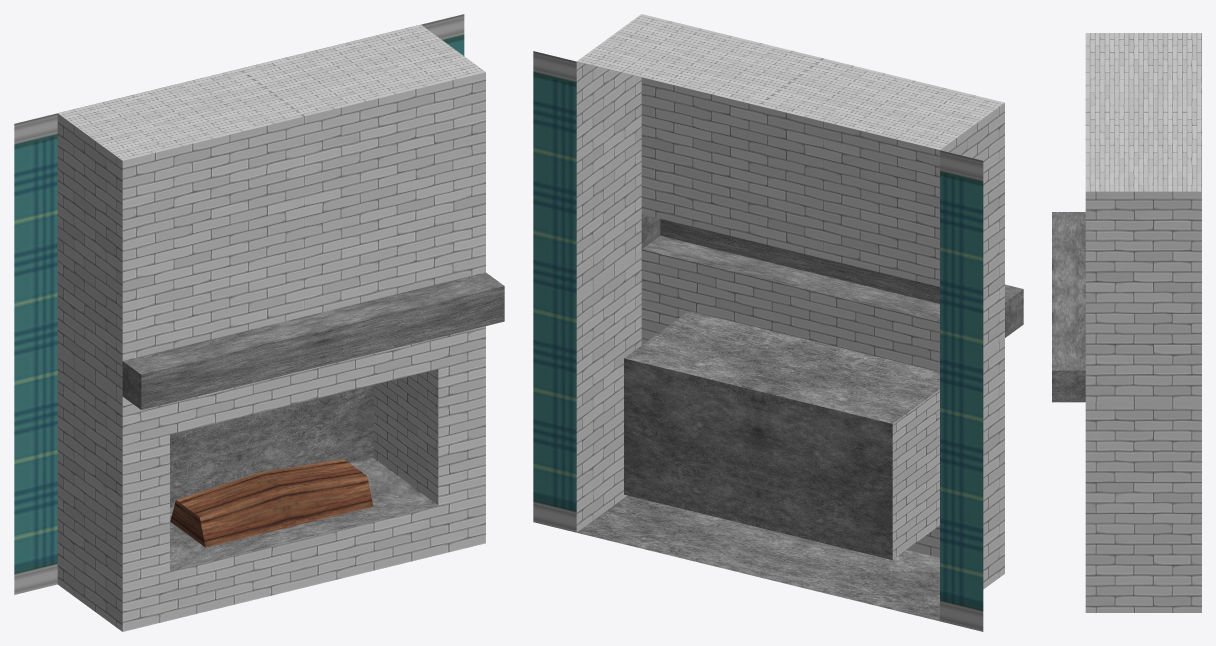
Rendered from wall_fireplace.fbx.
3 renders of one model, left to right at view 1: azimuth 30°, elevation 25°; view 2: azimuth 150°, elevation 25°; view 3: azimuth 270°, elevation 25°, orthographic. The views are drawn at different scales.
Visible parts, largest first — view 1: wall_fireplace; view 2: wall_fireplace; view 3: wall_fireplace.
Part boxes in pixels (x1,y1,x2,y2): wall_fireplace: [14, 14, 504, 631]; wall_fireplace: [533, 14, 1023, 631]; wall_fireplace: [1052, 33, 1201, 612].
Bounding box in the file's own units: 400 × 400 × 129.
2 materials, 2 textured.
